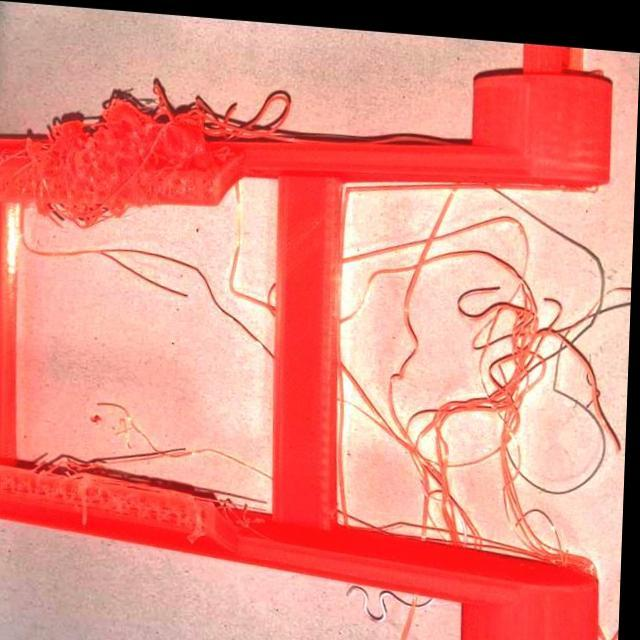spaghetti: (438, 253, 556, 474), (43, 101, 224, 228), (365, 189, 544, 278), (542, 299, 616, 403), (398, 410, 460, 525)
